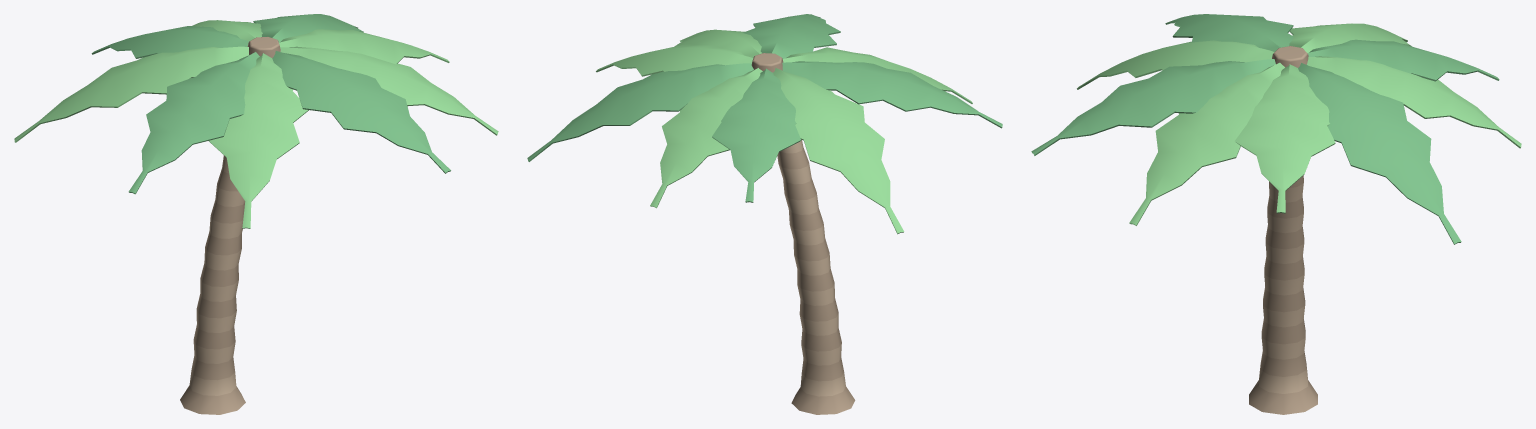
The model's file is PalmTreeShort.fbx.
3 views of the same model, side by side, from view 1: azimuth 30°, elevation 25°; view 2: azimuth 150°, elevation 25°; view 3: azimuth 270°, elevation 25° (orthographic). The views are drawn at different scales.
Visible parts, largest first — view 1: PalmTreeShort; view 2: PalmTreeShort; view 3: PalmTreeShort.
Boxes of the visible parts, x1,y1,x2,y2 form: PalmTreeShort: (14,14,498,414); PalmTreeShort: (527,14,1002,414); PalmTreeShort: (1031,14,1521,414).
Bounding box in the file's own units: 5.46 × 4.78 × 5.64.
